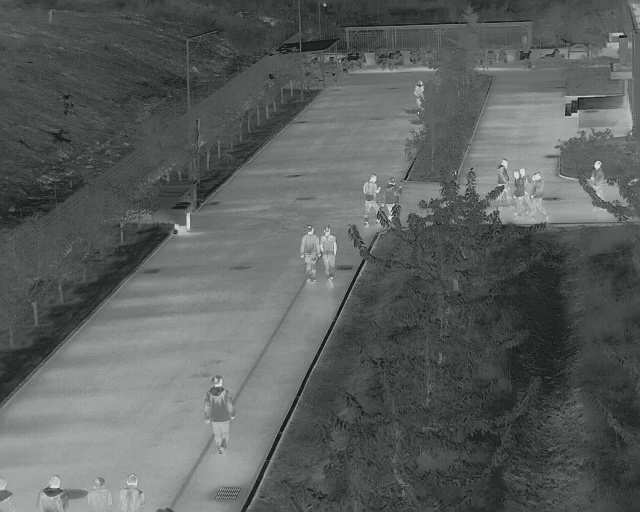person: (203, 376, 234, 455), (299, 225, 320, 283), (38, 474, 68, 512), (319, 224, 336, 289), (118, 473, 147, 511), (360, 172, 380, 225), (86, 476, 112, 511), (531, 171, 548, 219), (510, 169, 526, 218), (496, 158, 511, 209), (382, 177, 402, 210), (589, 159, 604, 197), (413, 78, 425, 111)
